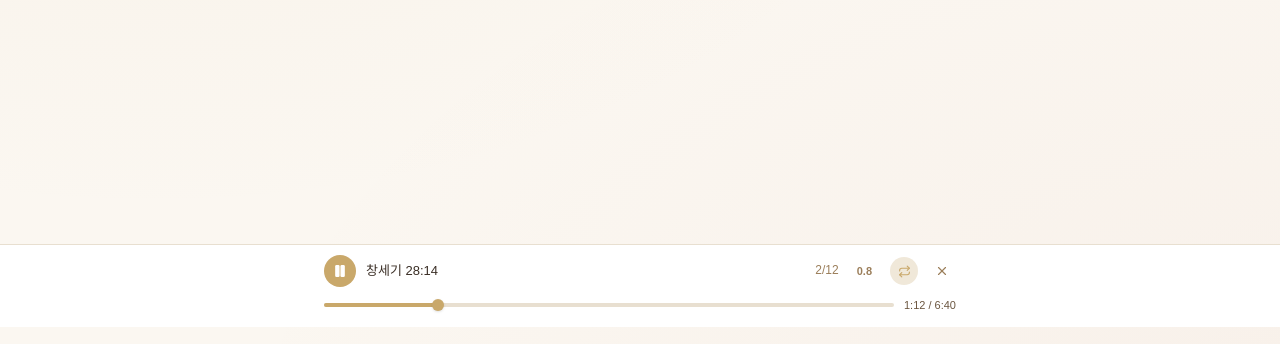
Test: PlaylistBar recite dial › marks only the current step
The image size is (1280, 344).
Click the button named "따라하기 길이" at (864, 271), box [849,257,880,285]
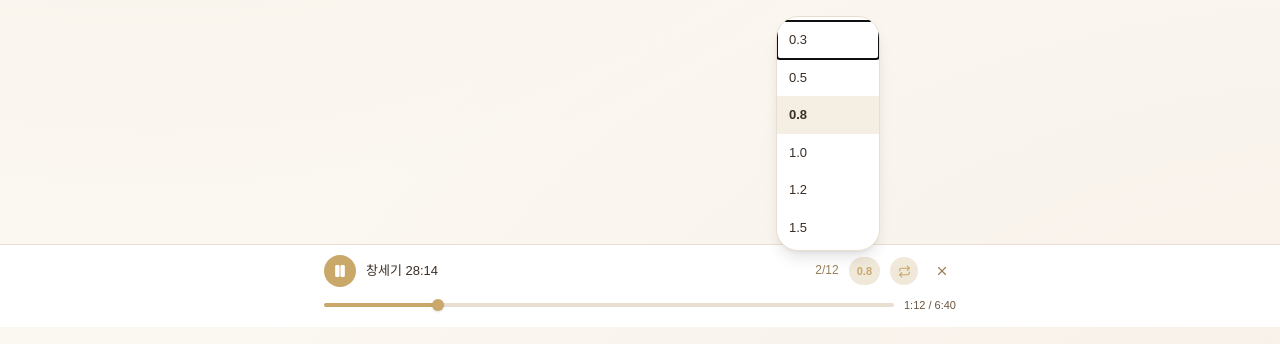
expect the number of menu items is 6: met, box [777,21,879,59]; [777,59,879,96]; [777,96,879,134]; [777,134,879,171]; [777,171,879,208]; [777,209,879,246]
expect the menu item "0.8" is checked: met, box [777,96,879,134]
